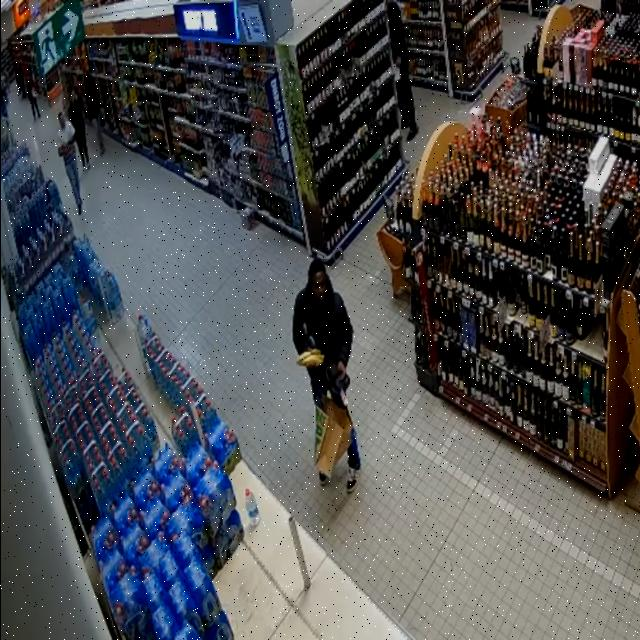article: (296, 348, 324, 366)
bags: (315, 397, 352, 477)
hands: (337, 361, 346, 378), (395, 56, 401, 68)
person: (293, 259, 353, 406), (387, 0, 418, 141), (58, 112, 82, 215), (68, 91, 90, 169), (85, 77, 105, 154)
